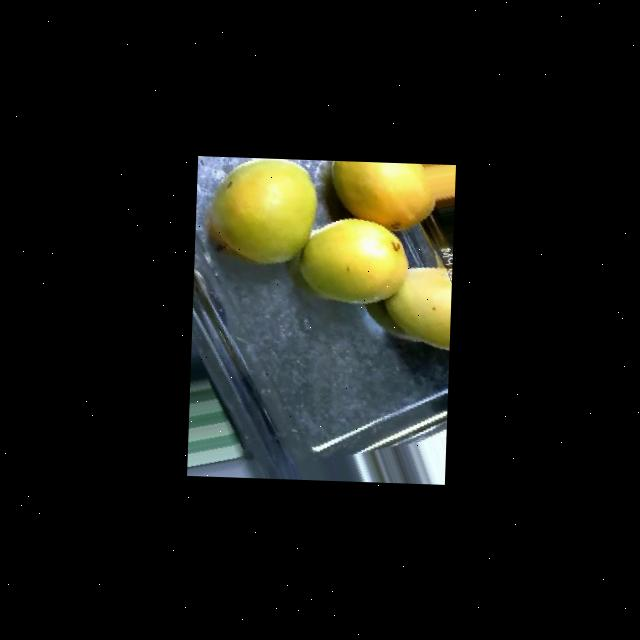Mango: (205, 157, 318, 267), (298, 216, 410, 306), (328, 161, 436, 233), (382, 266, 451, 352)
